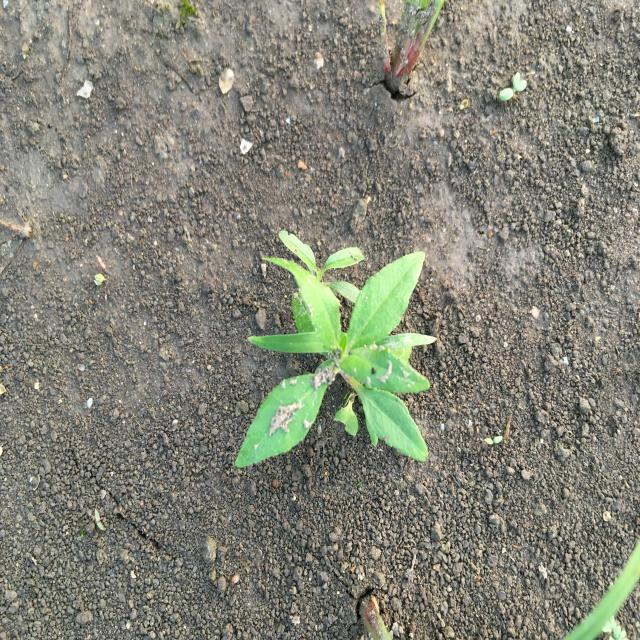Eclipta: (234, 228, 438, 470)
